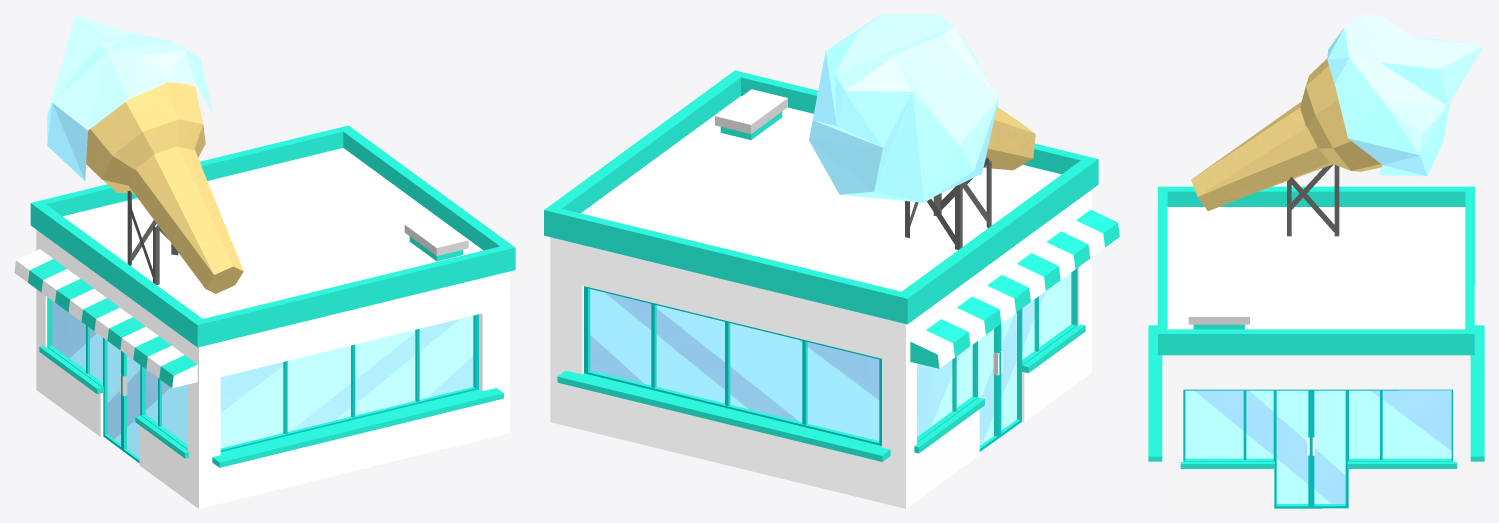
Rendered from tile_for_home_1x1.006 (13) icecream.glb.
The picture shows the model from 3 angles, left to right: view 1: azimuth 30°, elevation 25°; view 2: azimuth 150°, elevation 25°; view 3: azimuth 270°, elevation 25°; orthographic projection. The views are drawn at different scales.
Visible parts, largest first — view 1: snack.006; view 2: snack.006; view 3: snack.006.
Boxes of the visible parts, left/top/right/bottom form: snack.006: left=14, top=14, right=515, bottom=508; snack.006: left=544, top=14, right=1119, bottom=508; snack.006: left=1148, top=14, right=1484, bottom=508.
Size of the model in its own units: 6.24 by 6.47 by 5.52.
Materials: 1 (1 with a texture image).
